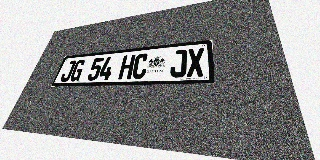4: (97, 56, 116, 80)
5: (86, 57, 104, 81)
C: (131, 53, 149, 79)
G: (69, 59, 86, 81)
H: (118, 54, 136, 80)
J: (169, 49, 187, 78), (59, 60, 77, 82)
X: (187, 48, 204, 77)
